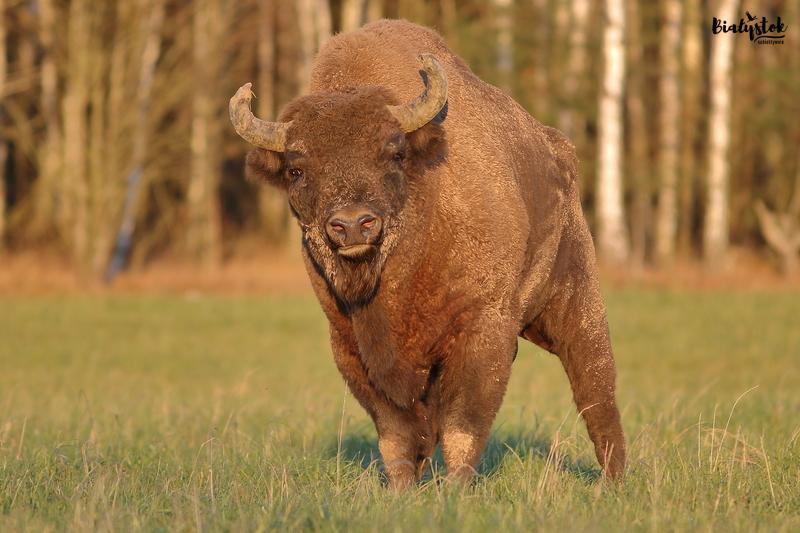zubr: (210, 9, 672, 503)
